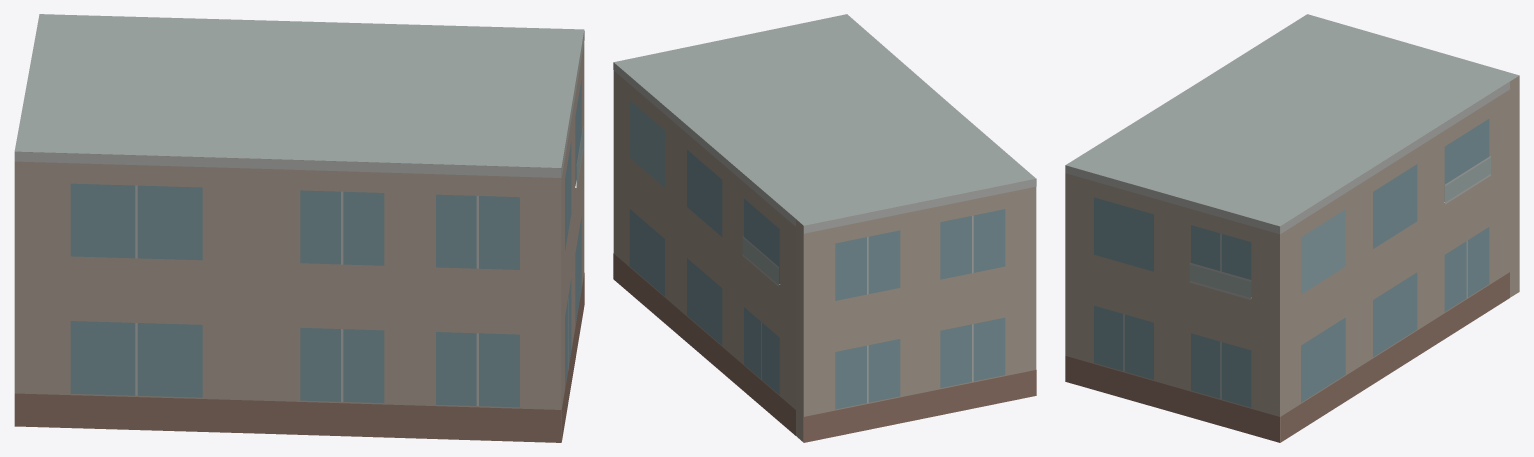
File: survey-upis-32979350.glb
The picture shows the model from 3 angles, left to right: view 1: azimuth 30°, elevation 25°; view 2: azimuth 150°, elevation 25°; view 3: azimuth 270°, elevation 25°; orthographic projection. The views are drawn at different scales.
Parts seen in each view (by area): view 1: survey-upis-32979350.tmp; view 2: survey-upis-32979350.tmp; view 3: survey-upis-32979350.tmp.
Boxes of the visible parts, <box> form: survey-upis-32979350.tmp: <box>14,14,584,442</box>; survey-upis-32979350.tmp: <box>613,14,1036,442</box>; survey-upis-32979350.tmp: <box>1065,14,1519,442</box>.
Size of the model in its own units: 14.11 by 6.7 by 12.76.
